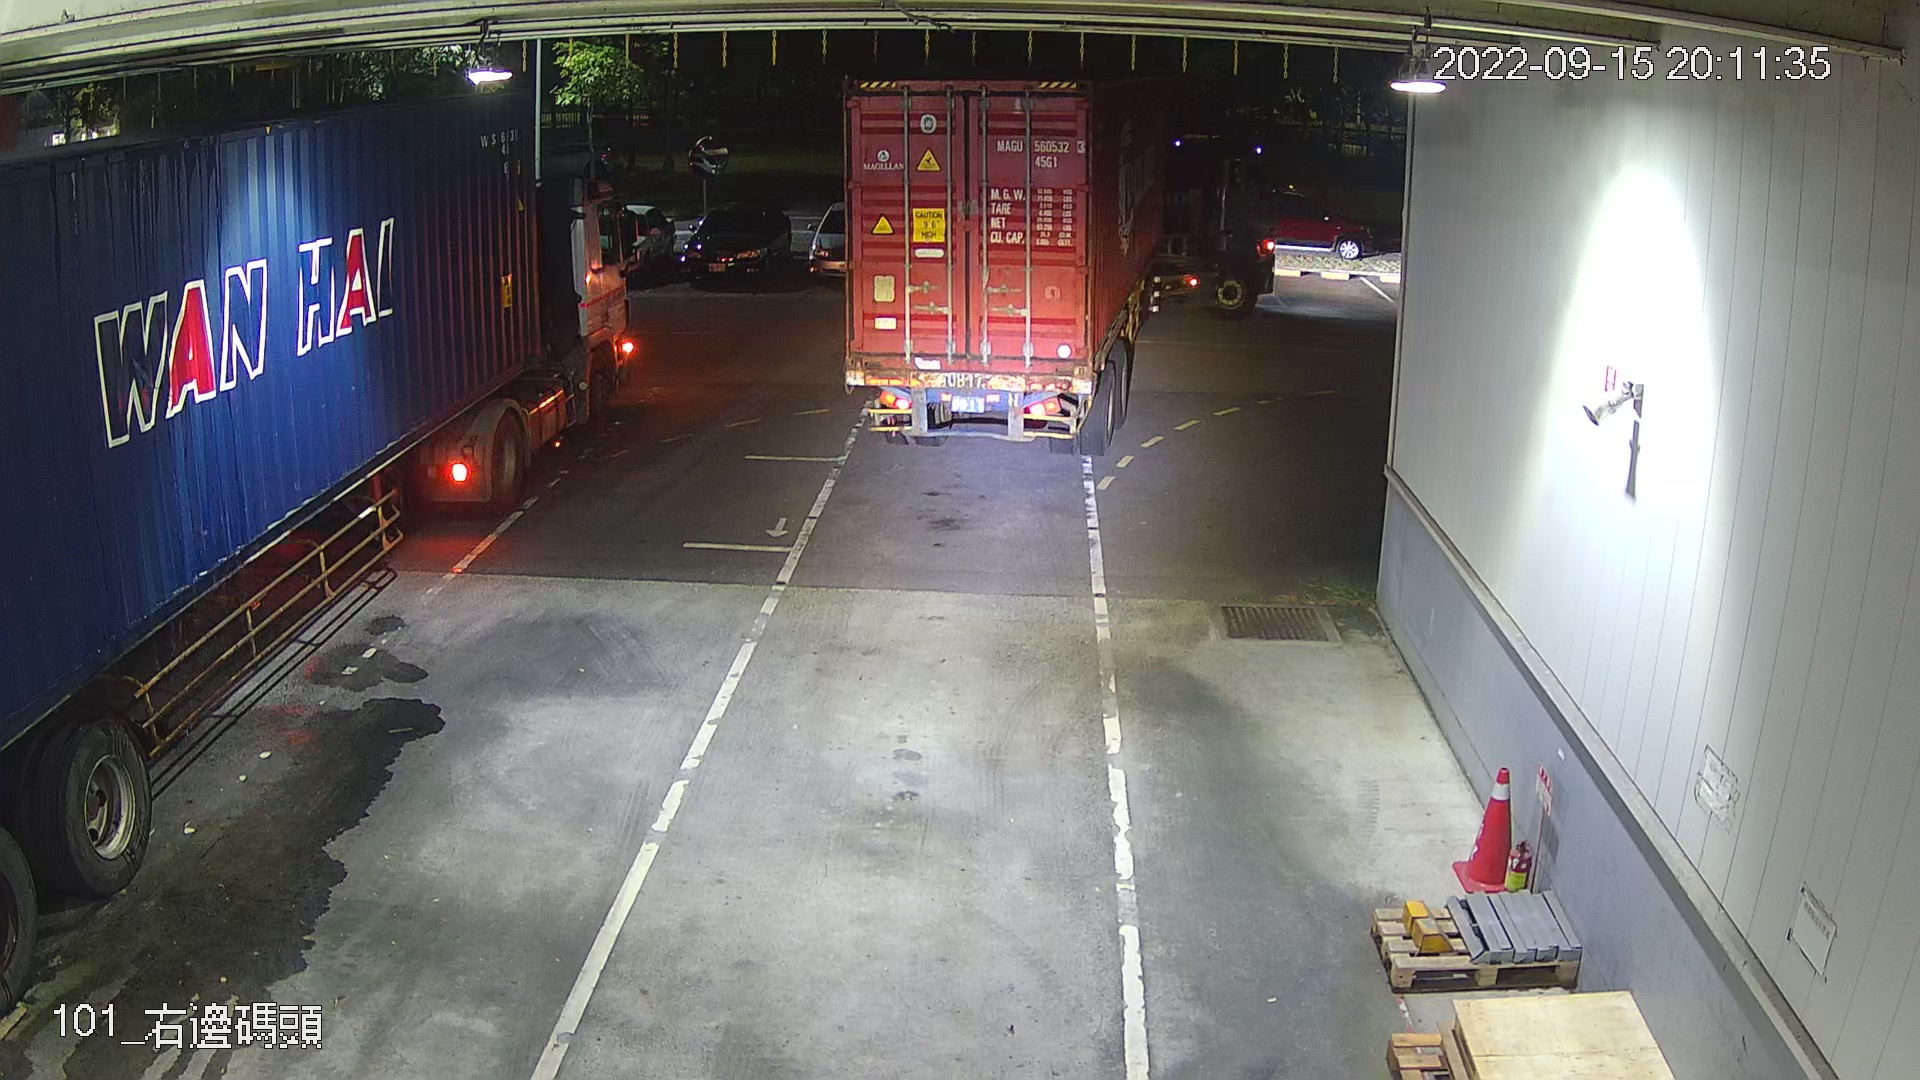container: (989, 129, 1087, 171)
